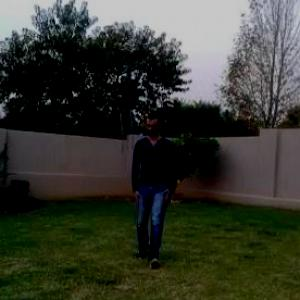follow: (129, 105, 175, 262)
